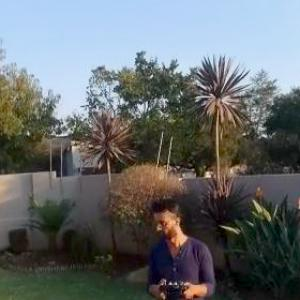follow: (144, 191, 220, 299)
